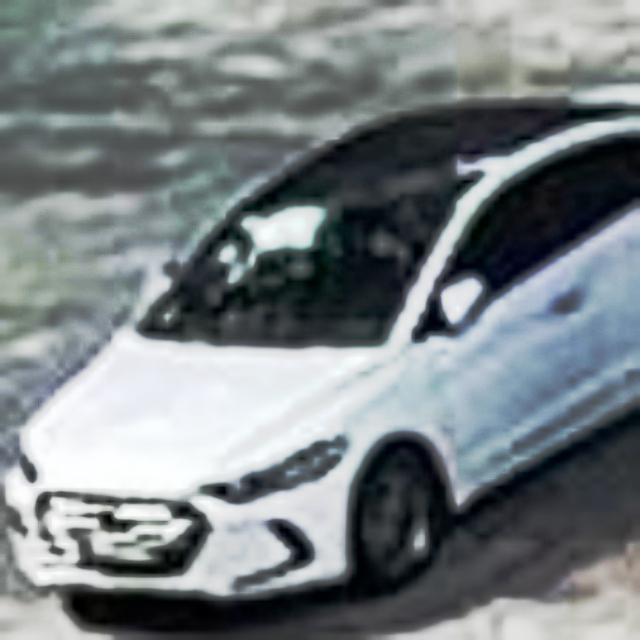Car: (2, 82, 639, 620)
